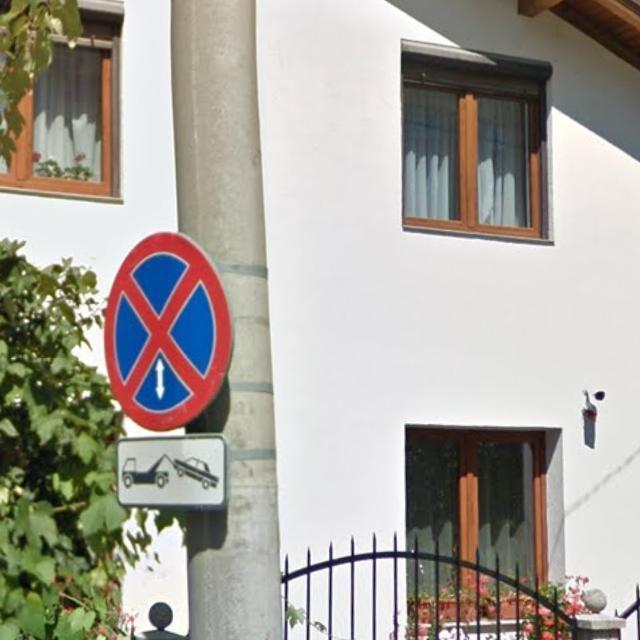forb_waiting: (104, 231, 232, 432)
